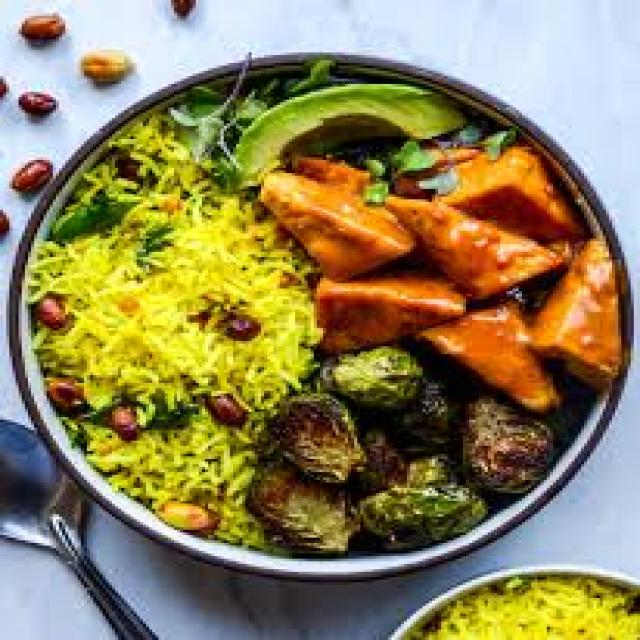RICE: (33, 122, 309, 533)
VEGGIES: (246, 349, 551, 563)
